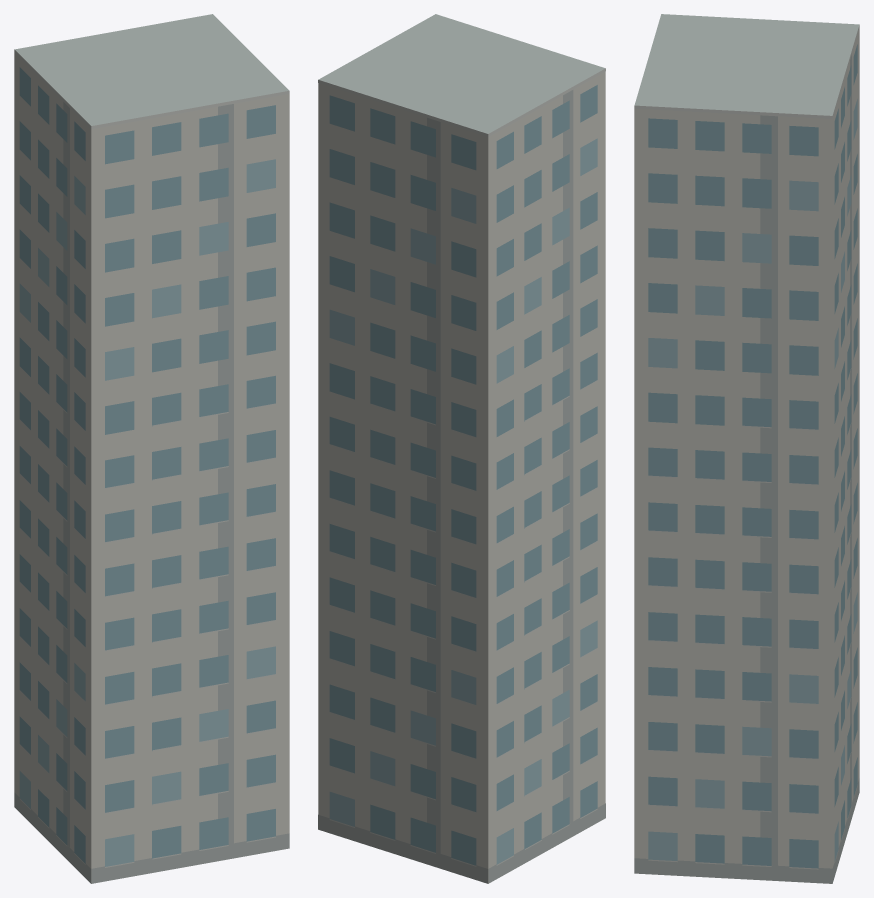
Rendered from residential-760e0ca6-d4a6-47f2-9396-85de2b760de4.glb.
3 renders of one model, left to right at view 1: azimuth 30°, elevation 25°; view 2: azimuth 150°, elevation 25°; view 3: azimuth 270°, elevation 25°, orthographic. The views are drawn at different scales.
Parts seen in each view (by area): view 1: residential-760e0ca6-d4a6-47f2-9396-85de2b760de4.tmp; view 2: residential-760e0ca6-d4a6-47f2-9396-85de2b760de4.tmp; view 3: residential-760e0ca6-d4a6-47f2-9396-85de2b760de4.tmp.
Boxes of the visible parts, left/top/right/bottom form: residential-760e0ca6-d4a6-47f2-9396-85de2b760de4.tmp: left=14, top=14, right=289, bottom=883; residential-760e0ca6-d4a6-47f2-9396-85de2b760de4.tmp: left=318, top=14, right=605, bottom=883; residential-760e0ca6-d4a6-47f2-9396-85de2b760de4.tmp: left=634, top=14, right=859, bottom=883.
Bounding box in the file's own units: 16.52 × 58 × 15.42.
